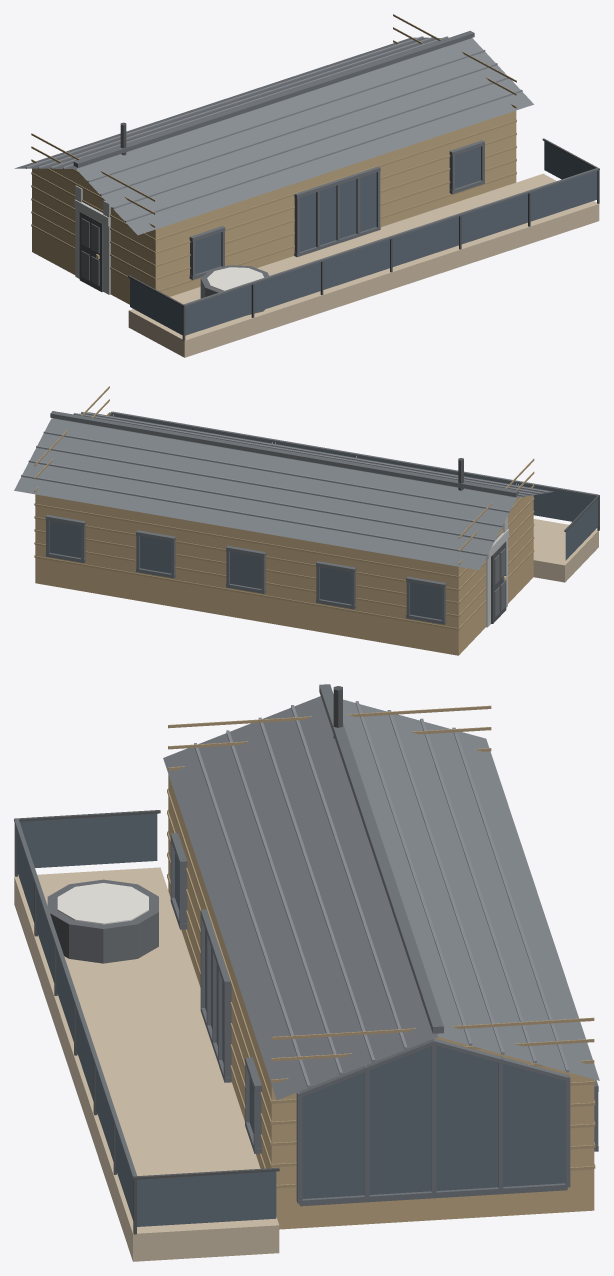
3 views of the same model, one above another, from view 1: azimuth 30°, elevation 25°; view 2: azimuth 150°, elevation 25°; view 3: azimuth 270°, elevation 25° (orthographic). The views are drawn at different scales.
Parts seen in each view (by area): view 1: slate, door_wood, larch, slate_dk, slate_lt, door_wood_p, window_glass_006, window_glass_003, window_glass_002, window_glass_004, window_glass_001, window_glass_005 (+14 smaller); view 2: slate, door_wood, slate_dk, slate_lt, door_wood_p, larch, window_glass_001, window_glass_017, window_glass_019, window_glass_020, window_glass_018, window_glass_016 (+5 smaller); view 3: slate, larch, window_glass_015, slate_dk, door_wood, slate_lt, door_wood_p, window_glass_008, window_glass_007, band_dark, string, pipe (+6 smaller).
Boxes of the visible parts, x1,y1,x2,y2 form: slate: (14, 37, 533, 235); door_wood: (32, 110, 516, 304); larch: (128, 173, 599, 357); slate_dk: (73, 30, 598, 306); slate_lt: (25, 36, 522, 222); door_wood_p: (31, 14, 516, 291); window_glass_006: (530, 171, 597, 221); window_glass_003: (323, 239, 389, 289); window_glass_002: (254, 262, 320, 312); window_glass_004: (392, 216, 458, 266); window_glass_001: (185, 285, 251, 335); window_glass_005: (461, 194, 527, 244); slate: (14, 412, 553, 570); door_wood: (35, 494, 533, 655); slate_dk: (45, 411, 598, 624); slate_lt: (21, 411, 547, 556); door_wood_p: (34, 386, 534, 630); larch: (533, 519, 598, 582); window_glass_001: (519, 484, 595, 521); window_glass_017: (140, 536, 171, 573); window_glass_019: (320, 567, 351, 604); window_glass_020: (410, 582, 441, 619); window_glass_018: (230, 551, 261, 588); window_glass_016: (49, 520, 80, 557); slate: (163, 696, 599, 1099); larch: (14, 867, 279, 1261); window_glass_015: (302, 1046, 564, 1198); slate_dk: (14, 684, 598, 1206); door_wood: (168, 774, 594, 1229); slate_lt: (194, 701, 569, 1087); door_wood_p: (167, 705, 595, 1188); window_glass_008: (137, 1171, 276, 1226); window_glass_007: (20, 813, 157, 867); band_dark: (47, 879, 158, 963); string: (57, 883, 148, 924); pipe: (14, 686, 342, 1234).
Size of the model in its own units: 14.56 by 4.42 by 9.52.
